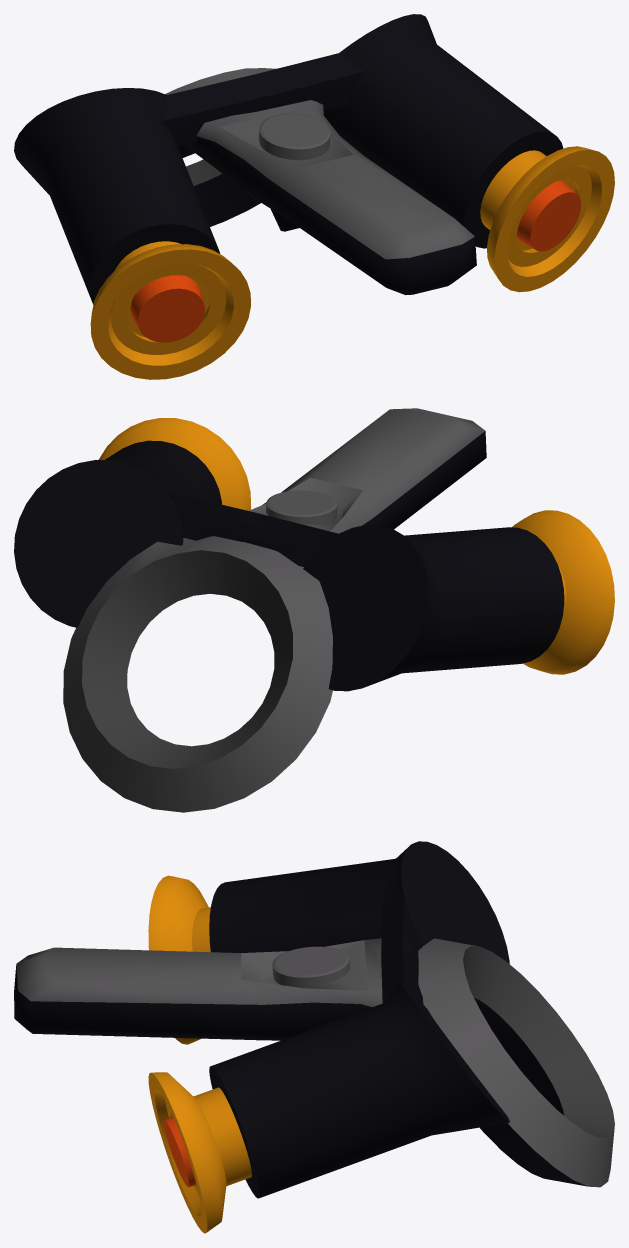
The model's file is Accelerator.FBX.
3 renders of one model, top to bottom at view 1: azimuth 30°, elevation 25°; view 2: azimuth 150°, elevation 25°; view 3: azimuth 270°, elevation 25°, orthographic. The views are drawn at different scales.
Parts seen in each view (by area): view 1: Vive_Accelerator; view 2: Vive_Accelerator; view 3: Vive_Accelerator.
Part boxes in pixels (box(x1,y1,x2,y2)): Vive_Accelerator: box(14, 14, 614, 379); Vive_Accelerator: box(14, 408, 614, 812); Vive_Accelerator: box(14, 841, 614, 1233).
Size of the model in its own units: 12.81 by 5.66 by 12.38.
